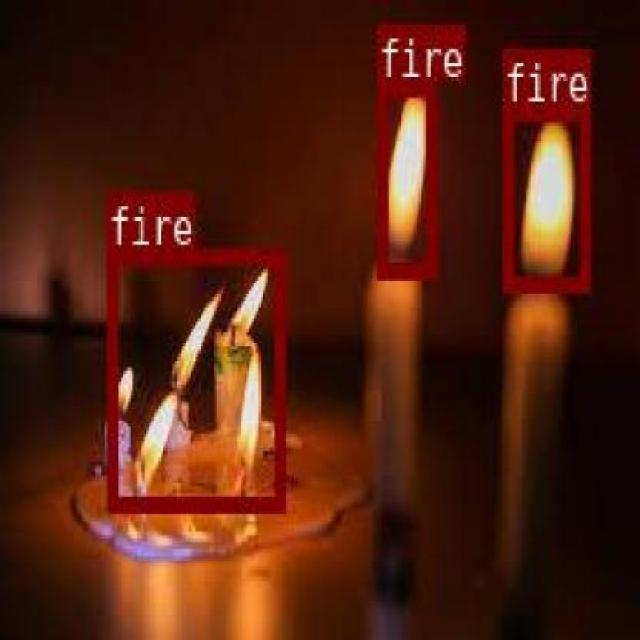fire: (105, 248, 282, 510), (502, 104, 588, 287), (376, 80, 436, 274)
